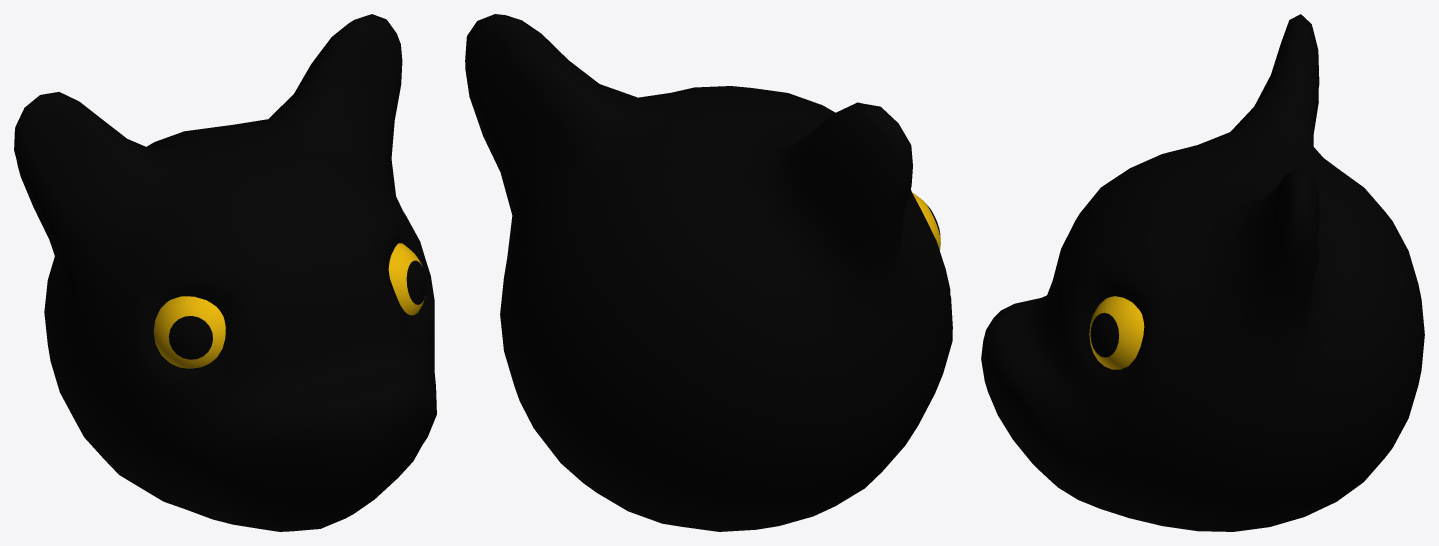
Rendered from Char_01.fbx.
3 views of the same model, side by side, from view 1: azimuth 30°, elevation 25°; view 2: azimuth 150°, elevation 25°; view 3: azimuth 270°, elevation 25° (orthographic). The views are drawn at different scales.
Parts seen in each view (by area): view 1: Char_01; view 2: Char_01; view 3: Char_01.
Boxes of the visible parts, left/top/right/bottom form: Char_01: left=14, top=14, right=436, bottom=531; Char_01: left=465, top=14, right=952, bottom=531; Char_01: left=981, top=14, right=1424, bottom=531.
Bounding box in the file's own units: 426 × 439 × 423.
